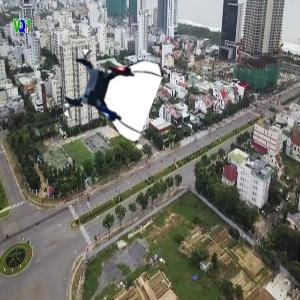drone: (63, 46, 155, 138)
